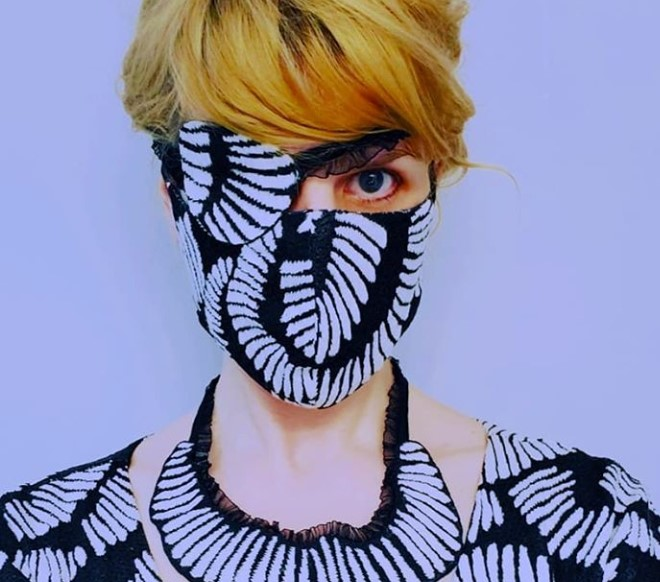face_with_mask: (142, 4, 463, 409)
